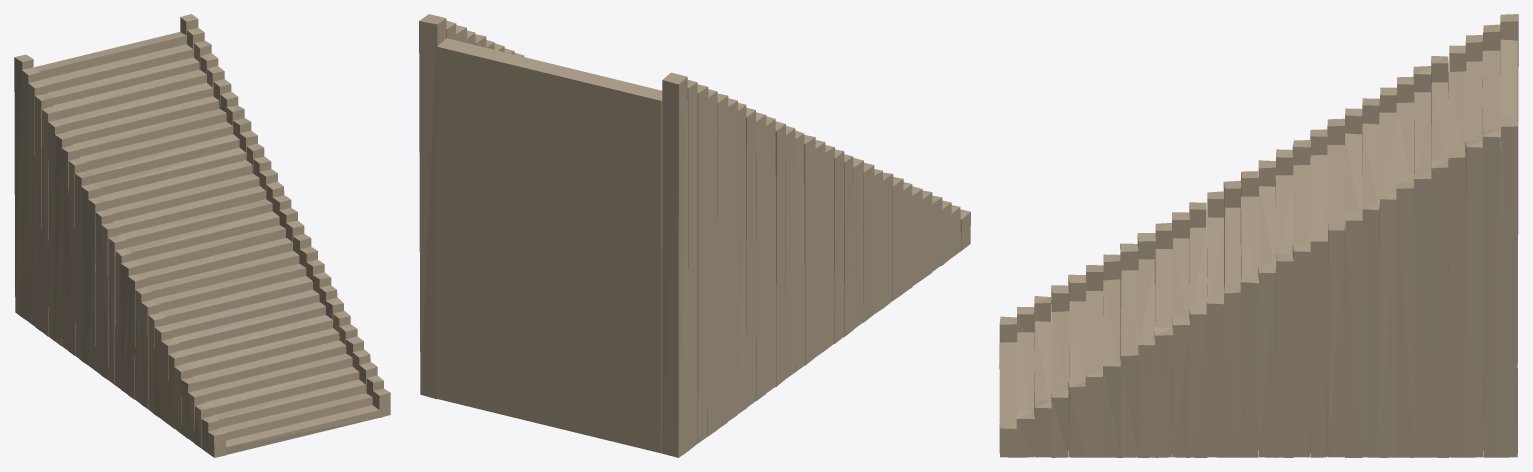
The model's file is SM_GrandStair.fbx.
The picture shows the model from 3 angles, left to right: view 1: azimuth 30°, elevation 25°; view 2: azimuth 150°, elevation 25°; view 3: azimuth 270°, elevation 25°; orthographic projection. The views are drawn at different scales.
Visible parts, largest first — view 1: SM_GrandStair; view 2: SM_GrandStair; view 3: SM_GrandStair.
Boxes of the visible parts, <box> form: SM_GrandStair: <box>14,14,390,457</box>; SM_GrandStair: <box>419,14,970,457</box>; SM_GrandStair: <box>999,14,1518,457</box>.
Size of the model in its own units: 4.63 by 6.36 by 9.02.
